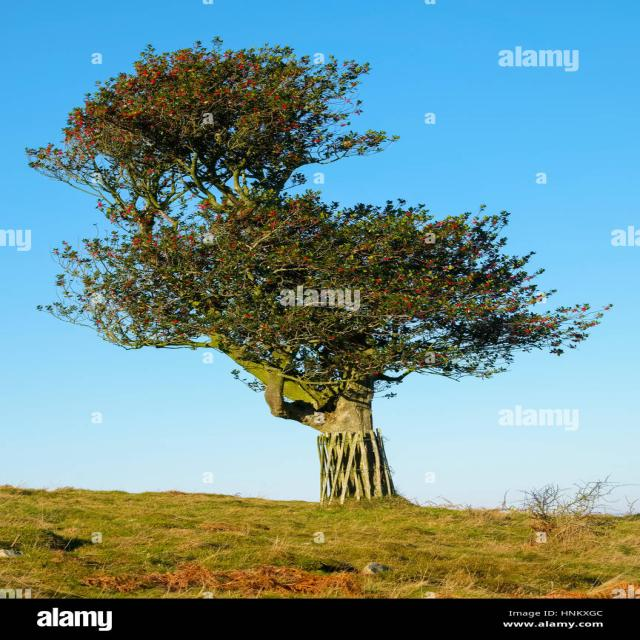acebo: (14, 40, 621, 502)
